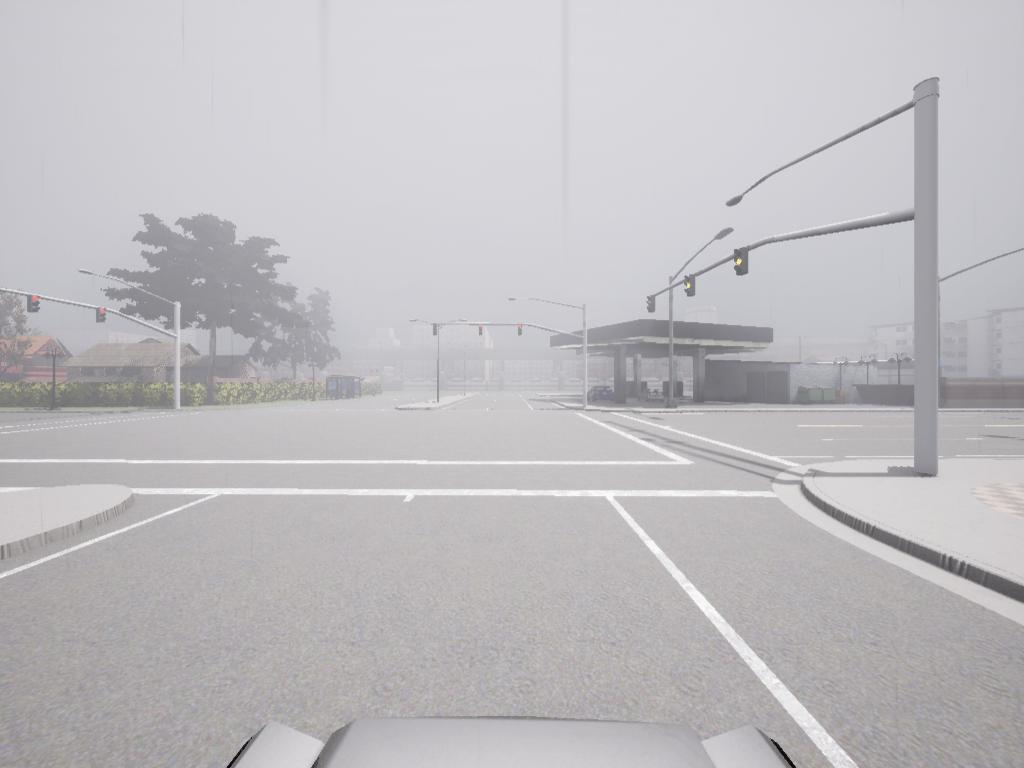traffic_light: (733, 250, 752, 277), (686, 276, 697, 300), (647, 295, 658, 316), (30, 296, 43, 312), (98, 310, 109, 325), (478, 324, 485, 339), (433, 323, 439, 339), (517, 326, 524, 337)
